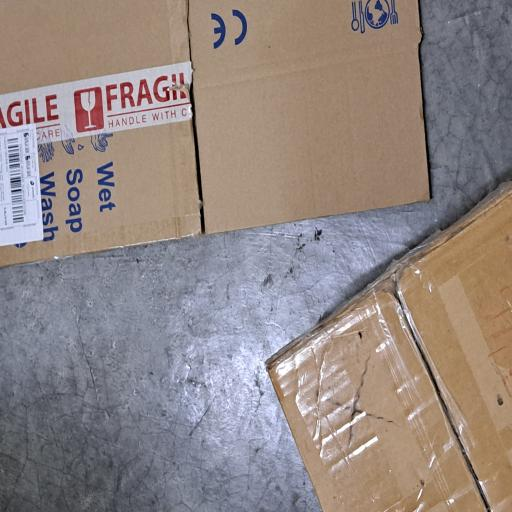cardboard: (185, 0, 383, 512), (0, 359, 249, 512)
